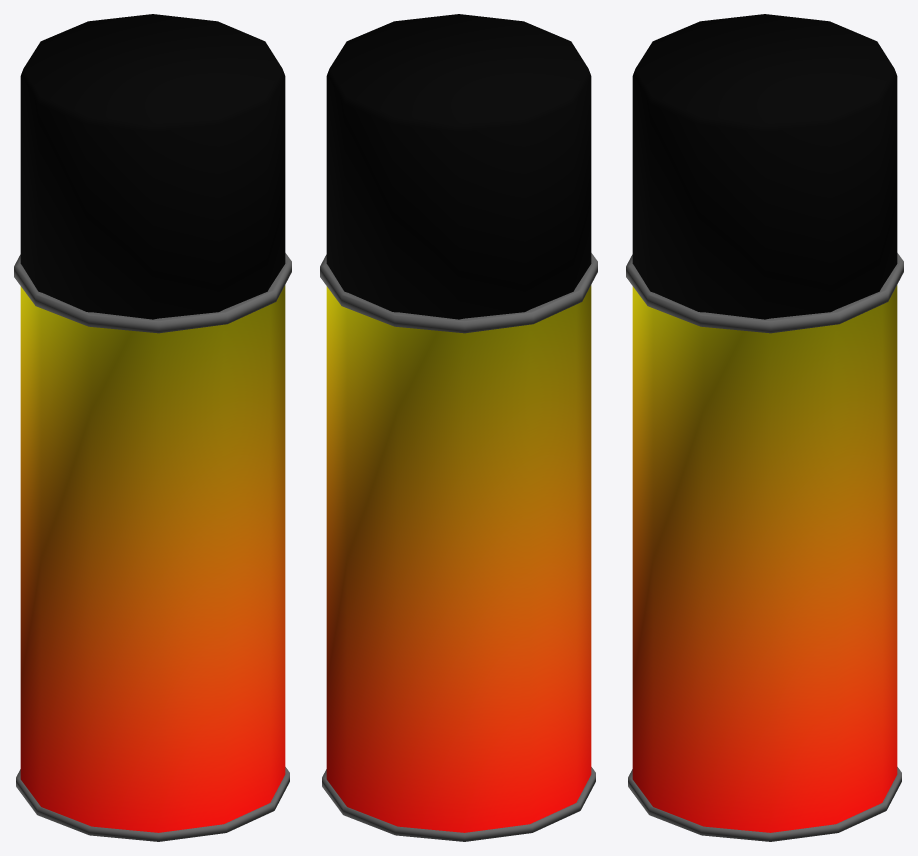
Rendered from can.glb.
3 views of the same model, side by side, from view 1: azimuth 30°, elevation 25°; view 2: azimuth 150°, elevation 25°; view 3: azimuth 270°, elevation 25° (orthographic).
Visible parts, largest first — view 1: can, can lid; view 2: can, can lid; view 3: can, can lid.
Boxes of the visible parts, <box> form: can: <box>14,253,291,841</box>; can lid: <box>20,14,285,319</box>; can: <box>320,253,597,841</box>; can lid: <box>326,14,591,319</box>; can: <box>626,253,903,841</box>; can lid: <box>632,14,897,319</box>.
Size of the model in its own units: 2.1 by 5.96 by 2.1.
6 materials, 2 textured.
